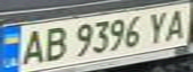3: (90, 18, 112, 55)
6: (124, 12, 148, 48)
9: (69, 20, 93, 58), (106, 16, 130, 52)
A: (15, 26, 48, 66), (160, 4, 193, 42)
B: (39, 24, 69, 63)
Y: (142, 8, 175, 45)
